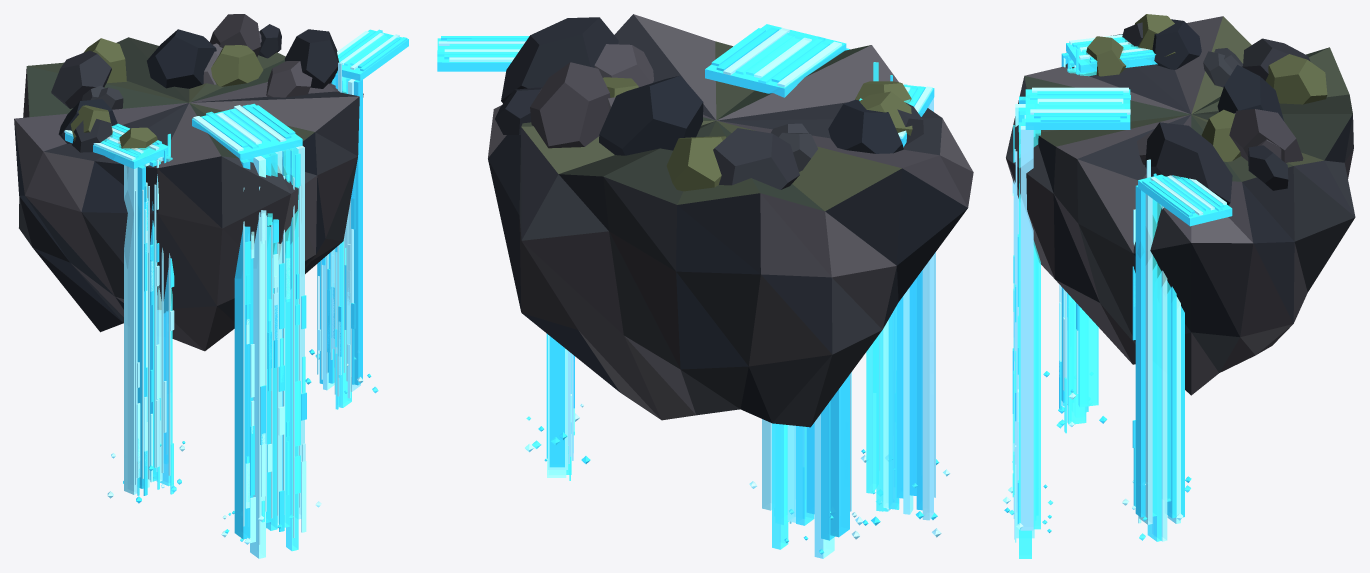
3 renders of one model, left to right at view 1: azimuth 30°, elevation 25°; view 2: azimuth 150°, elevation 25°; view 3: azimuth 270°, elevation 25°, orthographic. The views are drawn at different scales.
Visible parts, largest first — view 1: Low-poly waterfall; view 2: Low-poly waterfall; view 3: Low-poly waterfall.
Part boxes in pixels (x1,y1,x2,y2): Low-poly waterfall: (14,14,408,558); Low-poly waterfall: (437,14,973,558); Low-poly waterfall: (1002,14,1355,558).
Size of the model in its own units: 4.1 by 4.37 by 2.9.
